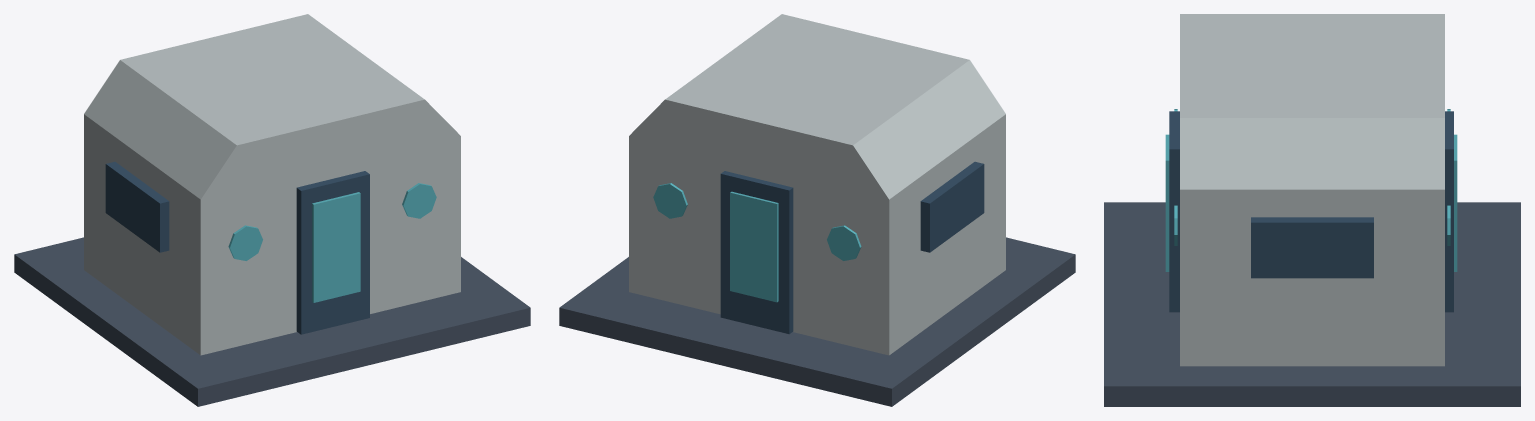
File: SpaceStation_Habitat_Simple.glb
3 renders of one model, left to right at view 1: azimuth 30°, elevation 25°; view 2: azimuth 150°, elevation 25°; view 3: azimuth 270°, elevation 25°, orthographic. The views are drawn at different scales.
Visible parts, largest first — view 1: SpaceStation_Habitat_Simple; view 2: SpaceStation_Habitat_Simple; view 3: SpaceStation_Habitat_Simple.
Part boxes in pixels (<box>): SpaceStation_Habitat_Simple: <box>14,14,530,406</box>; SpaceStation_Habitat_Simple: <box>559,14,1075,406</box>; SpaceStation_Habitat_Simple: <box>1104,14,1520,406</box>.
Size of the model in its own units: 4.6 by 2.9 by 4.4.
